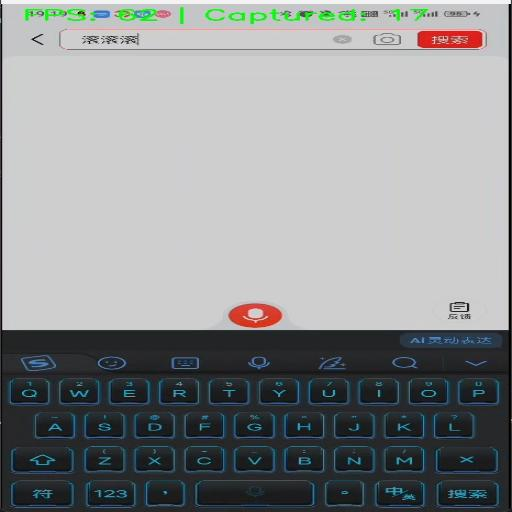back: (8, 24, 62, 53), (454, 353, 498, 371), (312, 31, 360, 46)
input: (60, 29, 482, 50)
